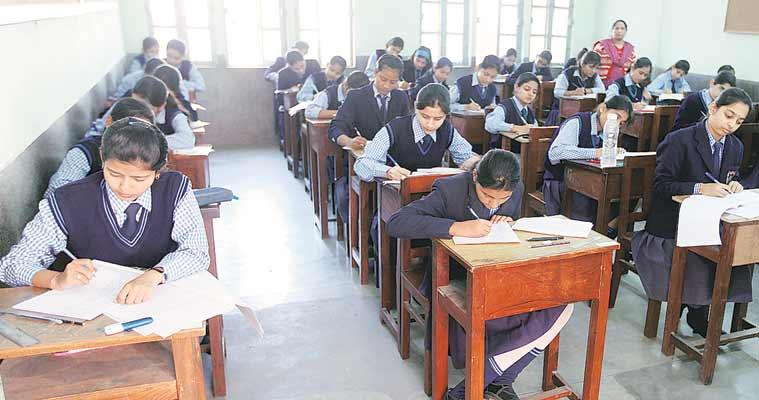invigilator: (586, 17, 638, 87)
student: (13, 112, 215, 315), (381, 142, 581, 250), (652, 87, 757, 212), (368, 84, 479, 171), (333, 52, 439, 139), (555, 89, 643, 160), (478, 70, 553, 139), (498, 69, 561, 142), (450, 48, 514, 109), (308, 41, 358, 109)
